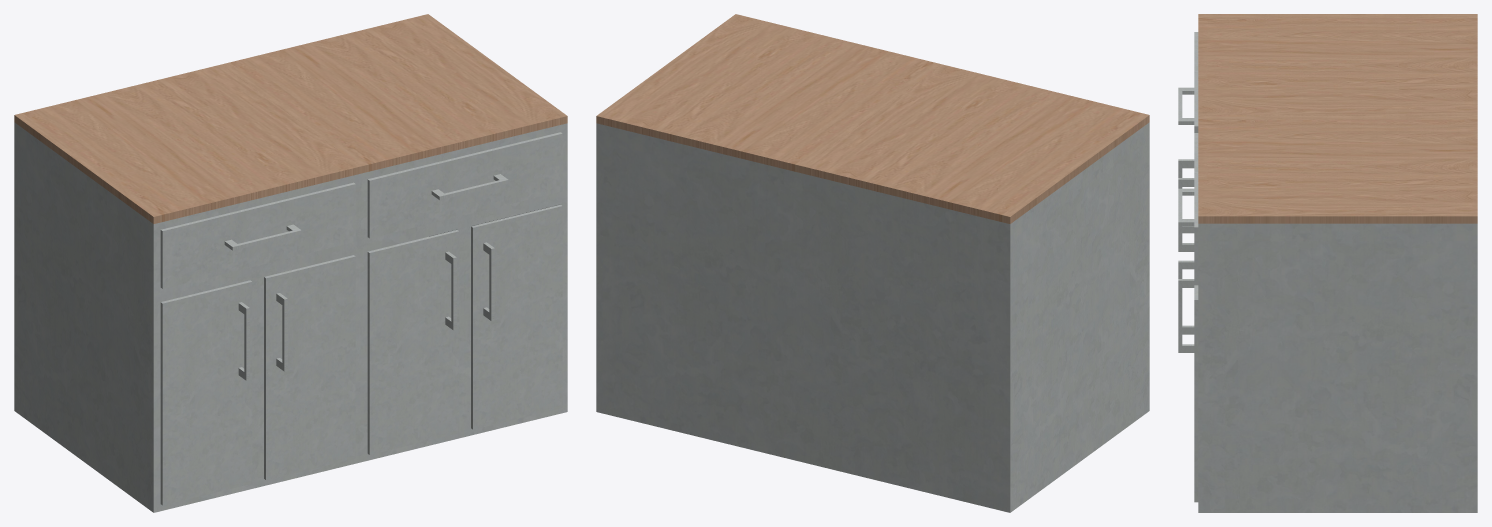
The model's file is Isla.glb.
The picture shows the model from 3 angles, left to right: view 1: azimuth 30°, elevation 25°; view 2: azimuth 150°, elevation 25°; view 3: azimuth 270°, elevation 25°; orthographic projection.
Parts seen in each view (by area): view 1: Isla, TapaIsla, PuertaIsla_L1, PuertaIsla_R1, PuertaIsla_R2, PuertaIsla_L2, PuertaIsla_UL, PuertaIsla_UR; view 2: Isla, TapaIsla; view 3: Isla, TapaIsla, PuertaIsla_R2, PuertaIsla_UL, HandeIsla_R2, PuertaIsla_UR, HandeIsla_L2, HandleIsla_UR, HanldeIsla_UL.
Part boxes in pixels (box(x1,y1,x2,y2)): Isla: box(14, 122, 567, 512); TapaIsla: box(14, 14, 567, 223); PuertaIsla_L1: box(160, 280, 252, 505); PuertaIsla_R1: box(367, 230, 459, 454); PuertaIsla_R2: box(471, 204, 562, 429); PuertaIsla_L2: box(264, 255, 355, 480); PuertaIsla_UL: box(367, 132, 562, 238); PuertaIsla_UR: box(160, 182, 355, 288); Isla: box(596, 122, 1149, 512); TapaIsla: box(596, 14, 1149, 223); Isla: box(1198, 223, 1477, 512); TapaIsla: box(1198, 14, 1477, 223); PuertaIsla_R2: box(1194, 285, 1198, 502); PuertaIsla_UL: box(1194, 133, 1198, 285); HandeIsla_R2: box(1178, 279, 1194, 352); PuertaIsla_UR: box(1194, 32, 1198, 132); HandeIsla_L2: box(1178, 178, 1194, 251); HandleIsla_UR: box(1178, 188, 1194, 225); HanldeIsla_UL: box(1178, 87, 1194, 124).
Size of the model in its own units: 1.2 by 0.82 by 0.75.
2 materials, 2 textured.
